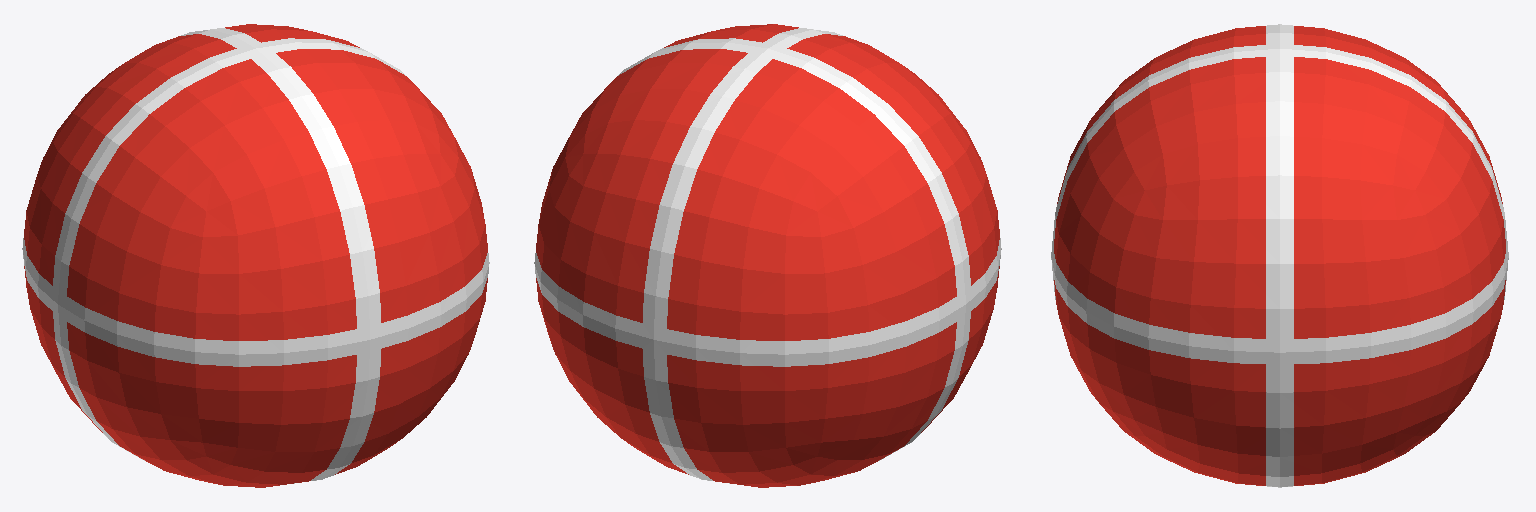
3 renders of one model, left to right at view 1: azimuth 30°, elevation 25°; view 2: azimuth 150°, elevation 25°; view 3: azimuth 270°, elevation 25°, orthographic.
Bounding box in the file's own units: 1.7 × 1.7 × 1.7.
Materials: 1 (1 with a texture image).